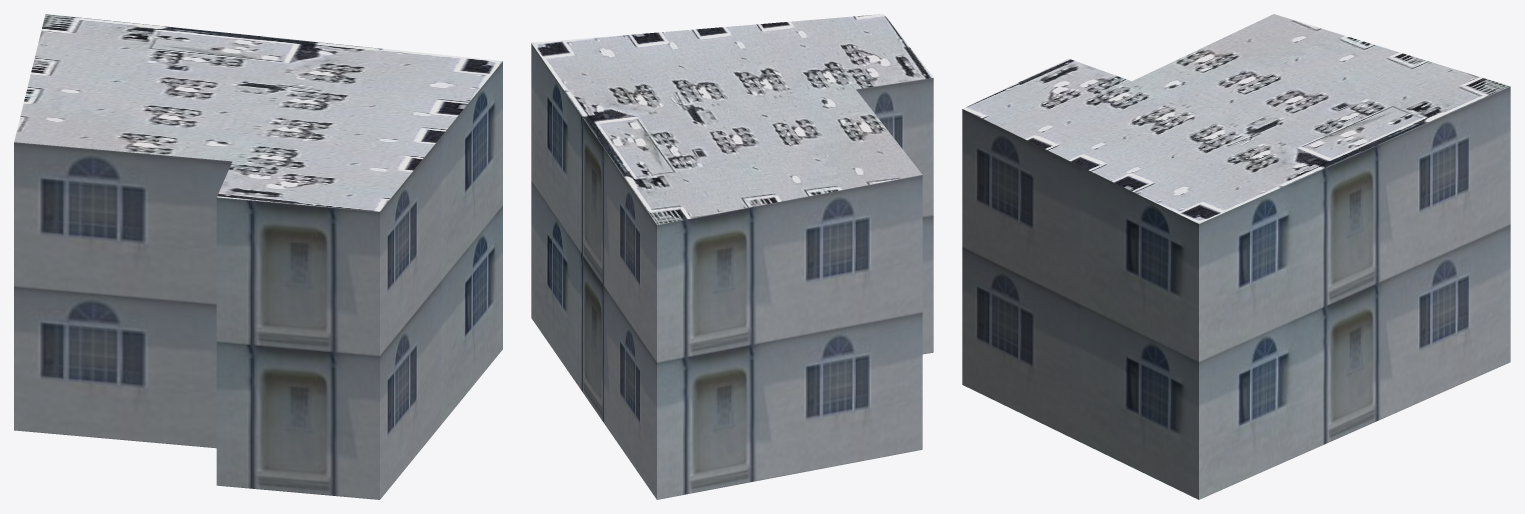
File: ResTex__4915.fbx
3 views of the same model, side by side, from view 1: azimuth 30°, elevation 25°; view 2: azimuth 150°, elevation 25°; view 3: azimuth 270°, elevation 25° (orthographic). The views are drawn at different scales.
Parts seen in each view (by area): view 1: CityEngineMaterial_17_m, CityEngineMaterial_4_m; view 2: CityEngineMaterial_17_m, CityEngineMaterial_4_m; view 3: CityEngineMaterial_17_m, CityEngineMaterial_4_m.
Part boxes in pixels (left/top/right/bottom): CityEngineMaterial_17_m: left=14, top=61, right=502, bottom=499; CityEngineMaterial_4_m: left=14, top=14, right=502, bottom=211; CityEngineMaterial_17_m: left=531, top=43, right=933, bottom=499; CityEngineMaterial_4_m: left=531, top=14, right=933, bottom=224; CityEngineMaterial_17_m: left=962, top=86, right=1510, bottom=499; CityEngineMaterial_4_m: left=963, top=14, right=1509, bottom=223.
Size of the model in its own units: 9.79 by 6 by 10.8.
2 materials, 2 textured.
